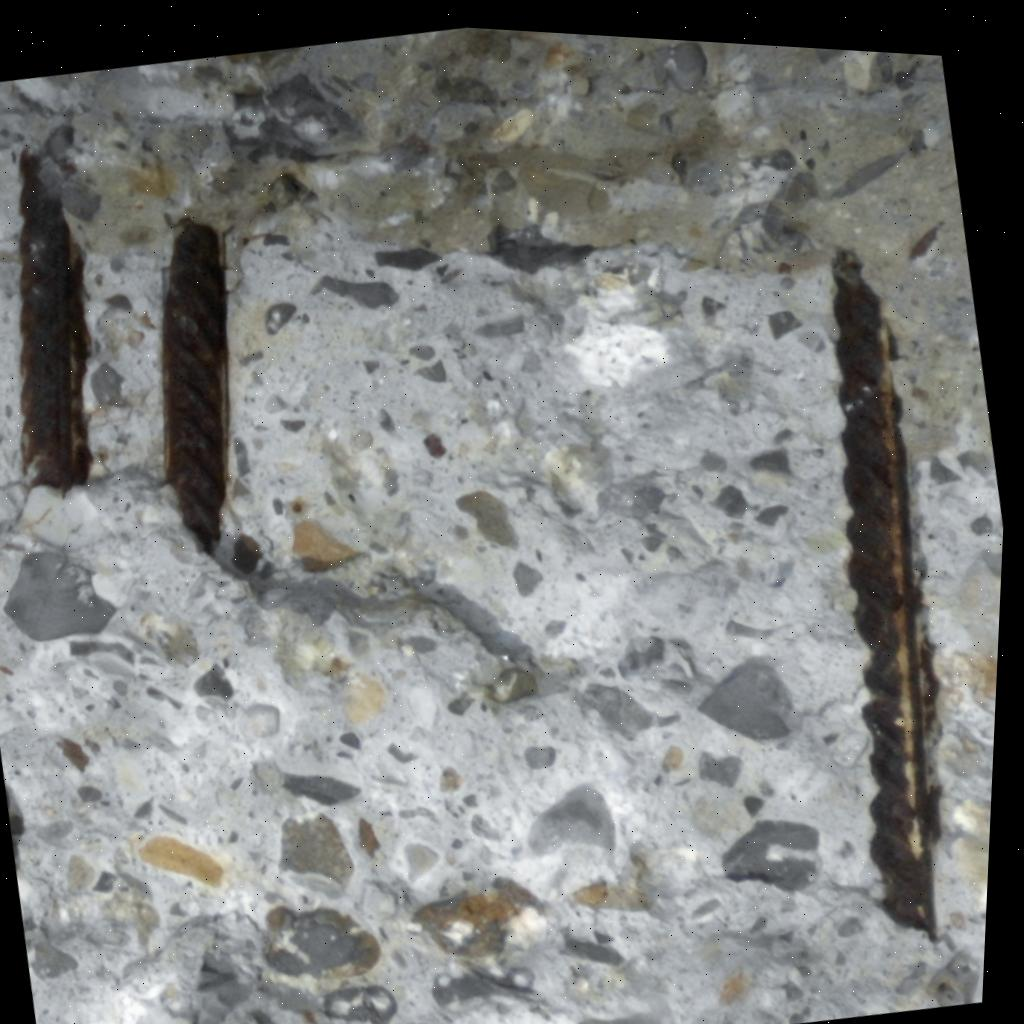exposed_rebar: (832, 249, 940, 936), (19, 149, 92, 491), (163, 221, 227, 551)
